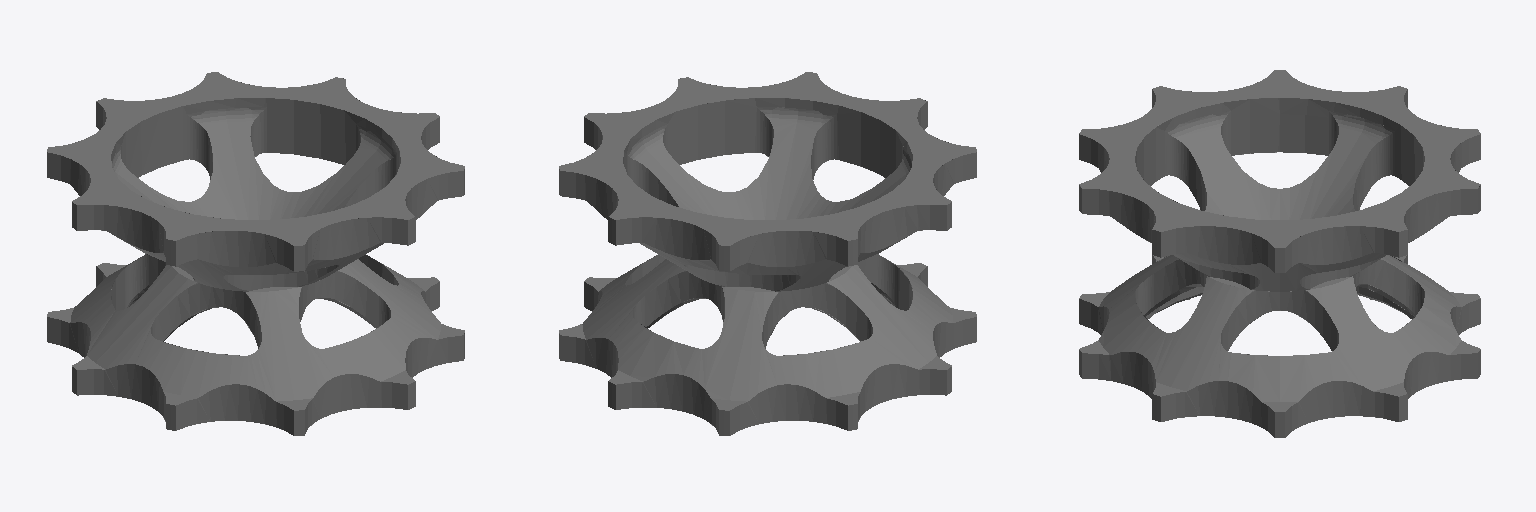
The model's file is Sprocket_R.obj.
3 views of the same model, side by side, from view 1: azimuth 30°, elevation 25°; view 2: azimuth 150°, elevation 25°; view 3: azimuth 270°, elevation 25° (orthographic).
Parts seen in each view (by area): view 1: Sprocket_R_Object_1MeshMeshMesh_Mesh.004; view 2: Sprocket_R_Object_1MeshMeshMesh_Mesh.004; view 3: Sprocket_R_Object_1MeshMeshMesh_Mesh.004.
Part boxes in pixels (x1,y1,x2,y2): Sprocket_R_Object_1MeshMeshMesh_Mesh.004: (47, 72, 464, 435); Sprocket_R_Object_1MeshMeshMesh_Mesh.004: (559, 72, 976, 435); Sprocket_R_Object_1MeshMeshMesh_Mesh.004: (1079, 70, 1480, 437).
Size of the model in its own units: 0.52 by 0.265 by 0.4986.